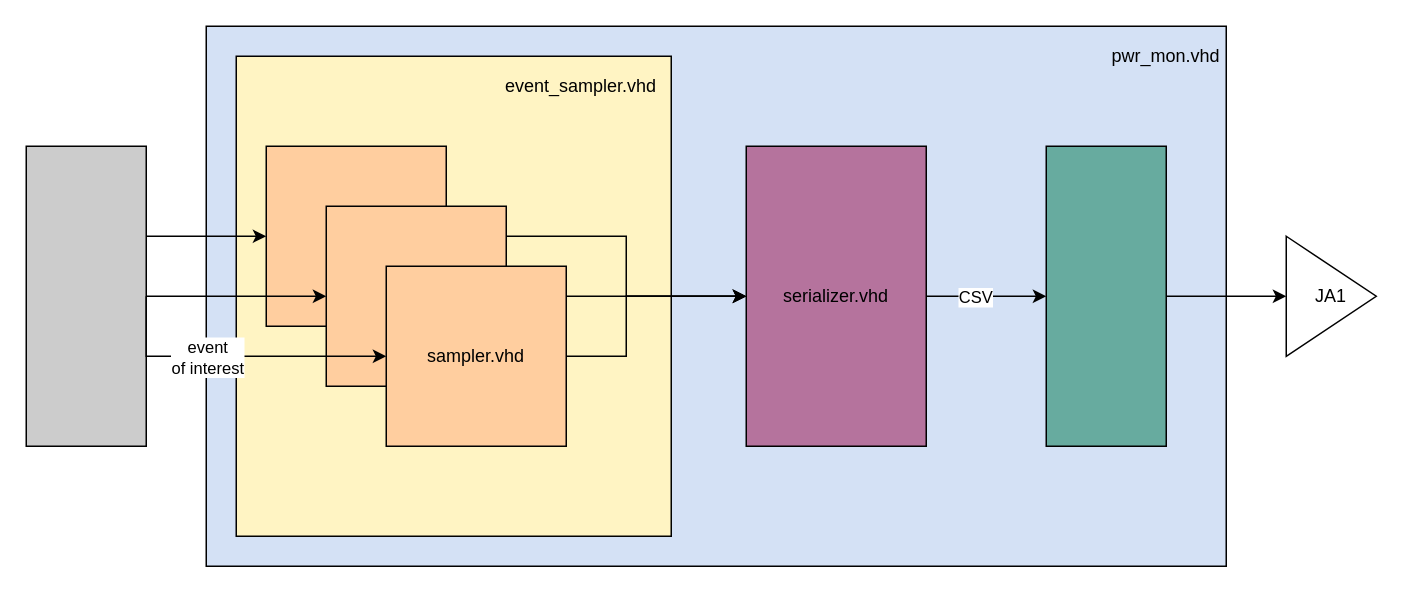
This 1403x593 diagram has some shape labels left out. The shapes that lost their labels are listed below. From the top down, each one's box as (x1, y1, x2, y2) in pixels, then its label:
(25, 145, 146, 446): DUT
(1045, 145, 1166, 446): uart_tx.vhd
